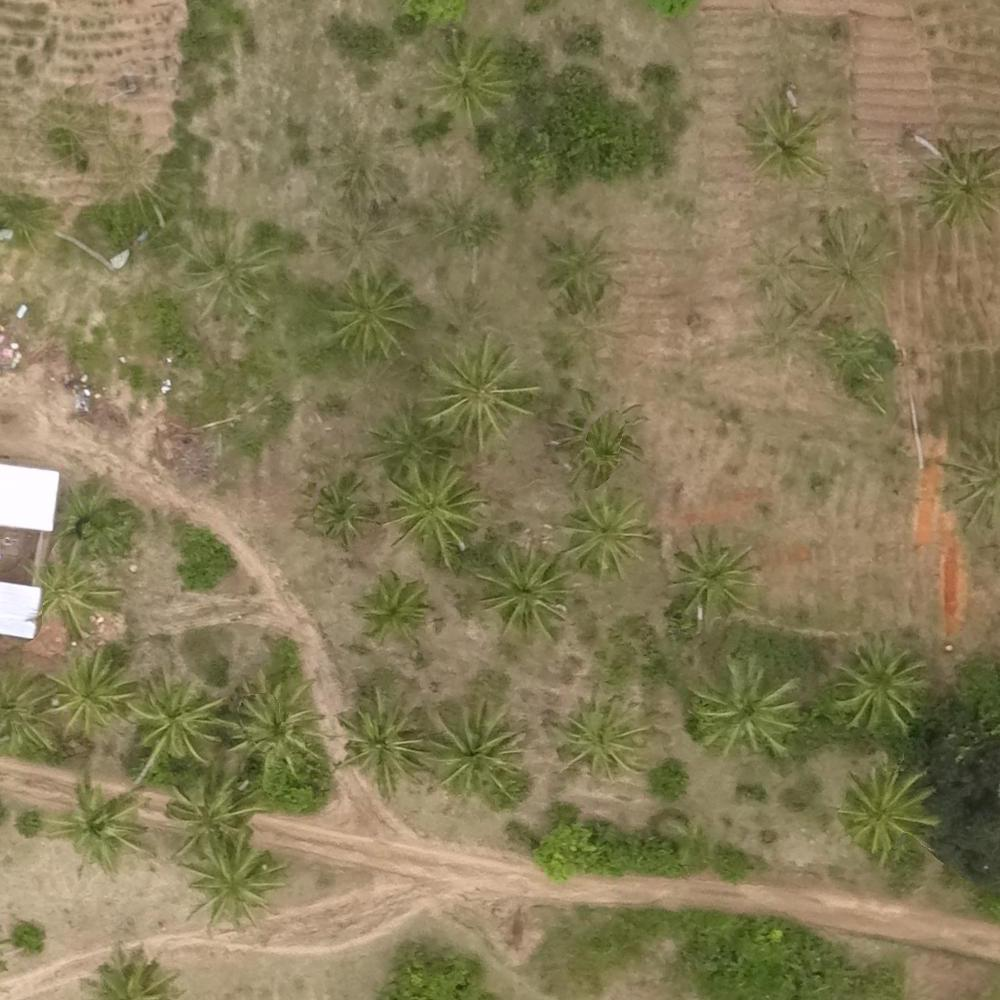not palm: (158, 4, 235, 85), (796, 912, 864, 984), (708, 407, 778, 476), (846, 1, 918, 67), (315, 865, 380, 938), (930, 301, 1000, 368), (80, 4, 148, 71), (928, 2, 997, 68), (871, 524, 936, 593), (690, 848, 759, 911), (529, 838, 594, 904), (795, 522, 866, 582), (784, 434, 844, 504), (711, 922, 782, 981), (605, 844, 671, 907), (924, 931, 994, 990), (1, 393, 60, 461), (621, 917, 686, 978), (210, 96, 274, 157), (540, 940, 607, 998), (2, 1, 72, 56), (388, 938, 457, 993), (403, 843, 461, 907), (263, 946, 330, 1000), (557, 9, 620, 63), (1, 325, 59, 381)
